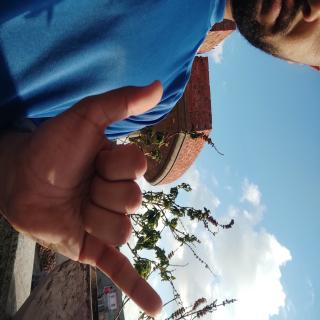YA: (55, 194, 240, 320)
